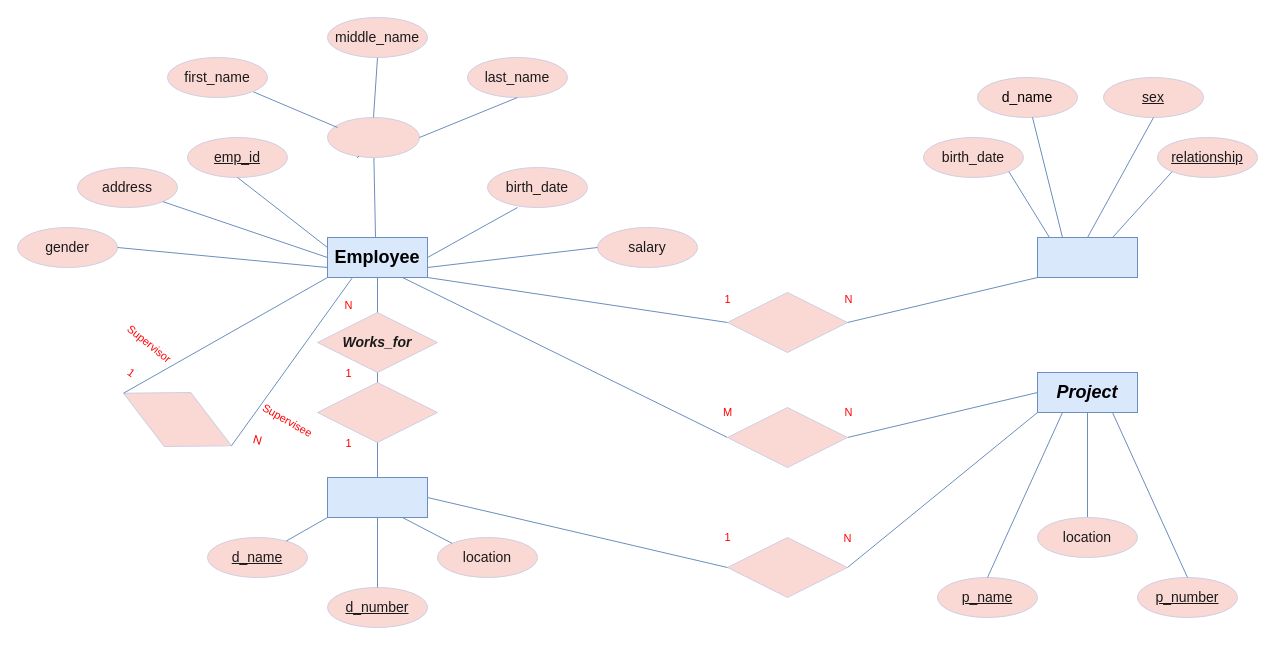
Some shapes in this 1275 by 645 pixel diagram are drawn without their labels. The shapes that lost their labels are listed below. From the top down, each one's centre as x and y in pixels, then its label:
At [373,137]: "name".
At [1087,257]: "Dependent".
At [787,322]: "Dependent_of".
At [177,419]: "Supervision".
At [377,412]: "Manages".
At [787,437]: "Works_on Hours".
At [377,497]: "Department".
At [787,567]: "Has".
